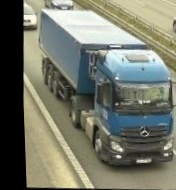truck: (35, 4, 176, 173)
